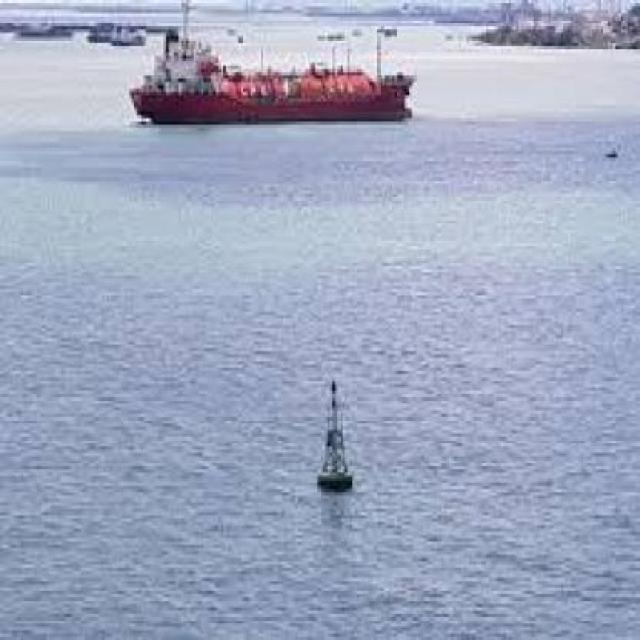buoy: (311, 371, 360, 503)
